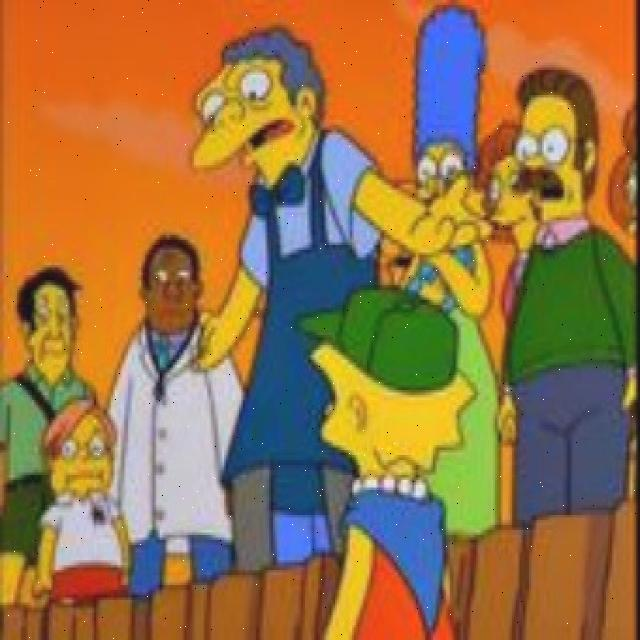Lisa Simpson: (302, 325, 484, 490)
Marge Simpson: (411, 6, 485, 214)
